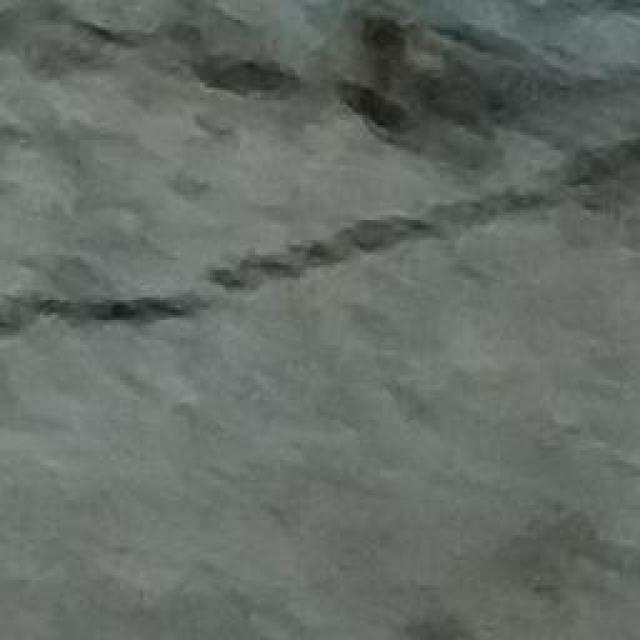Transverse: (0, 154, 640, 339)
